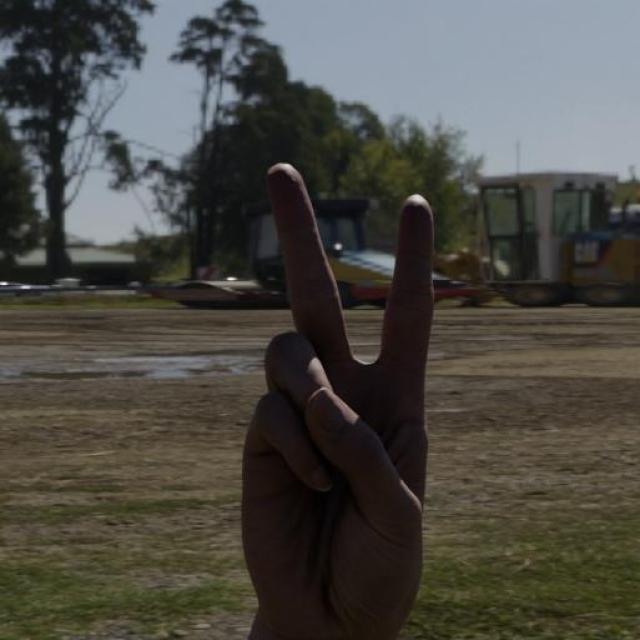V: (236, 156, 445, 640)
